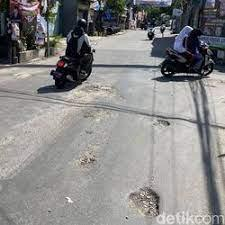Pothole: (4, 57, 119, 170), (114, 167, 195, 224), (142, 102, 202, 161)
